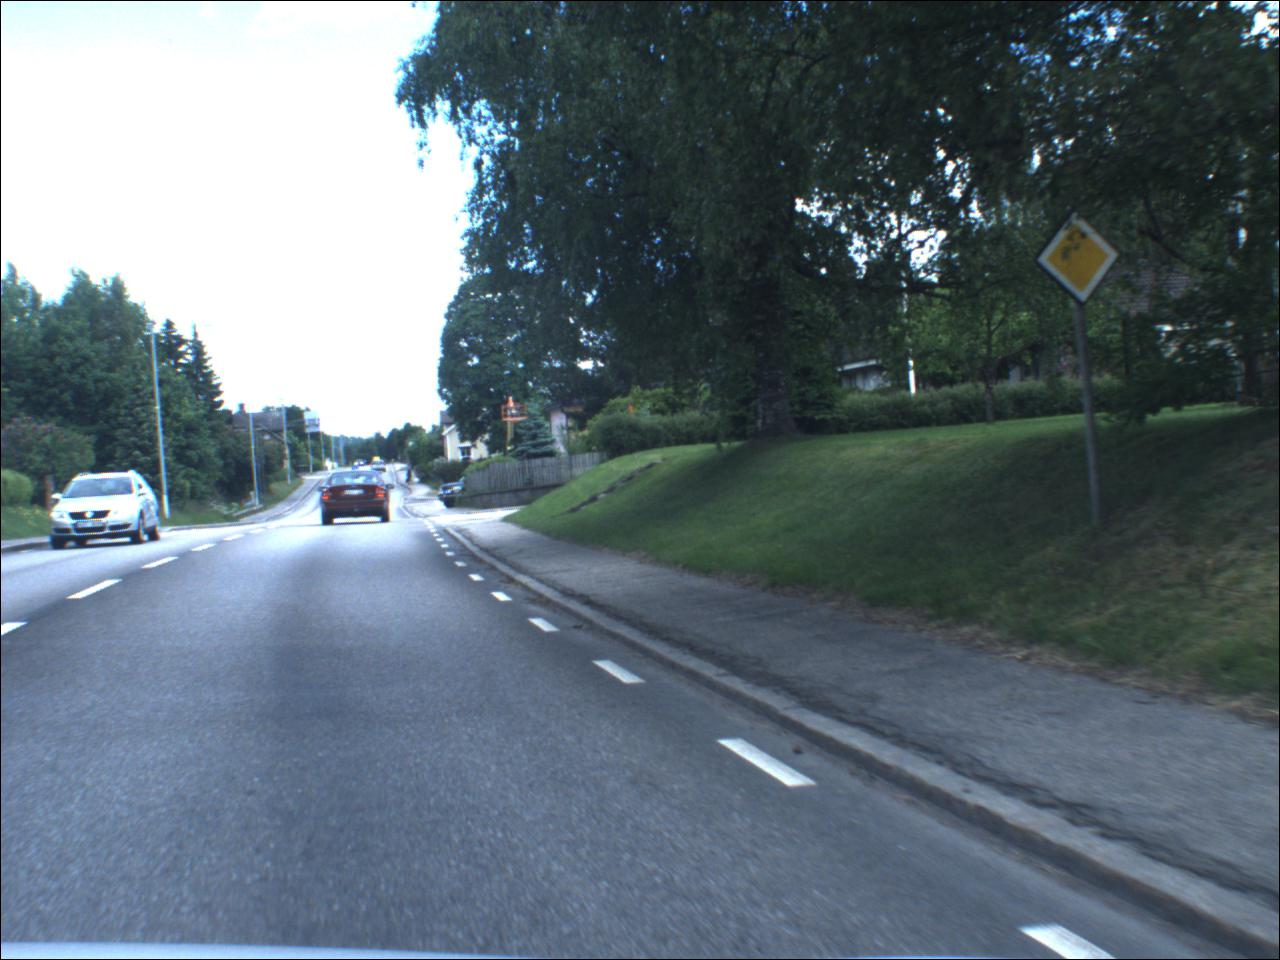PRIORITY_ROAD: (1033, 209, 1129, 310)
